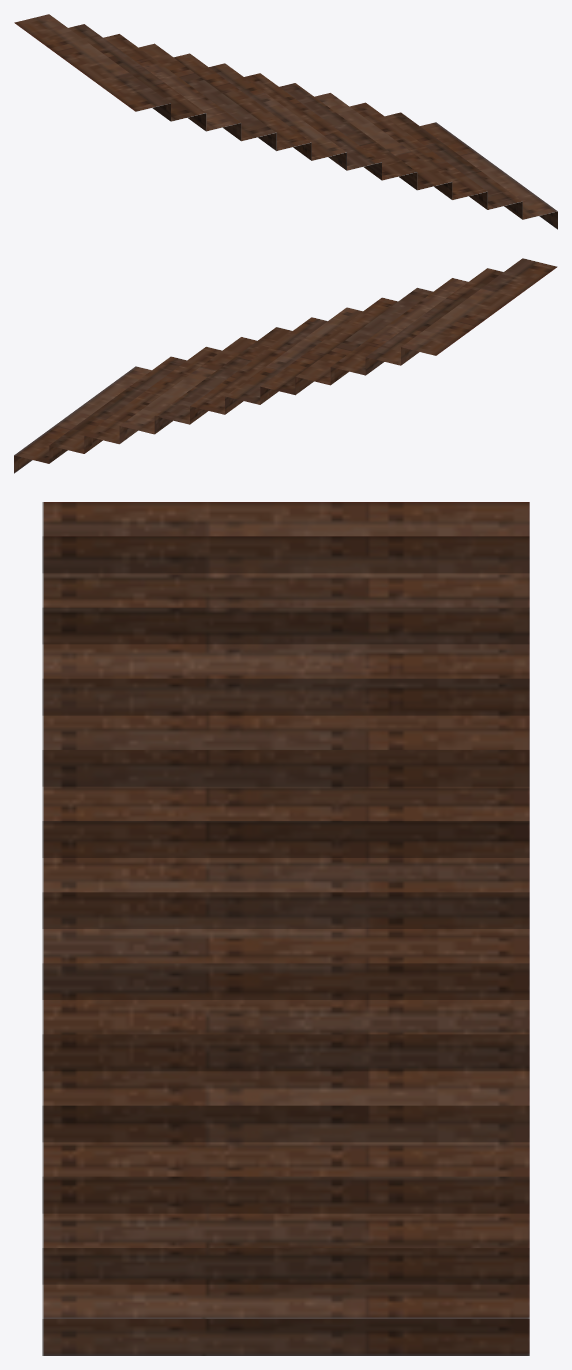
File: Stair_01.fbx
3 renders of one model, top to bottom at view 1: azimuth 30°, elevation 25°; view 2: azimuth 150°, elevation 25°; view 3: azimuth 270°, elevation 25°, orthographic. The views are drawn at different scales.
Parts seen in each view (by area): view 1: Stair_01; view 2: Stair_01; view 3: Stair_01.
Boxes of the visible parts, x1,y1,x2,y2 form: Stair_01: (14, 14, 557, 229); Stair_01: (14, 258, 557, 473); Stair_01: (42, 502, 529, 1355).
Size of the model in its own units: 1200 by 600 by 600.
